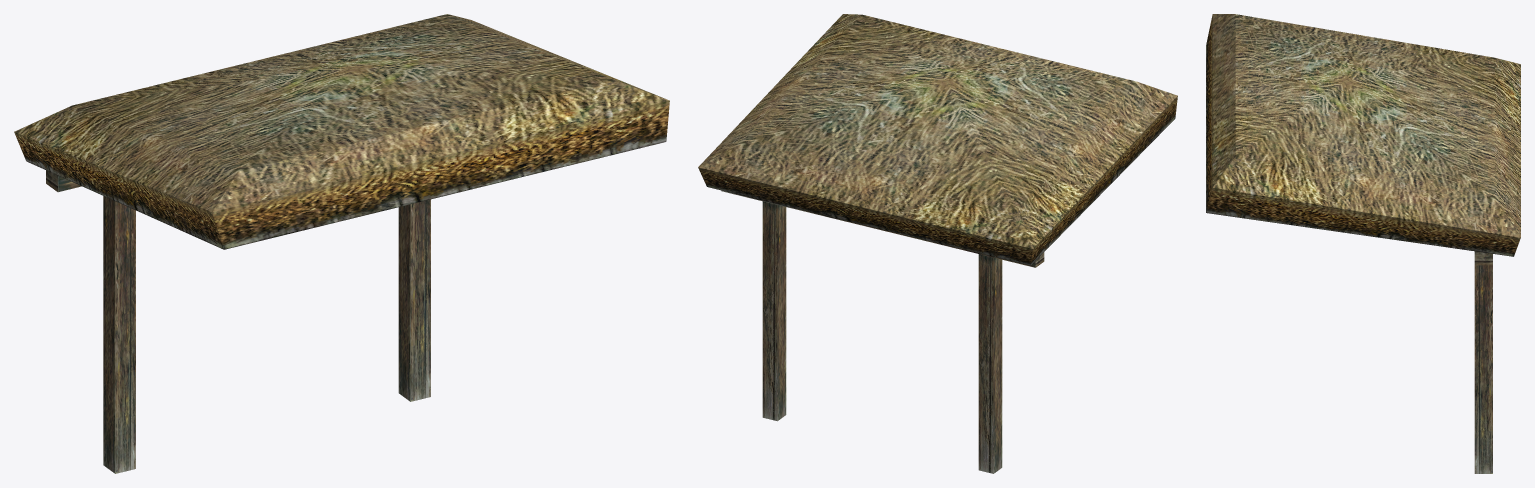
Rendered from mhouse16.glb.
3 renders of one model, left to right at view 1: azimuth 30°, elevation 25°; view 2: azimuth 150°, elevation 25°; view 3: azimuth 270°, elevation 25°, orthographic. The views are drawn at different scales.
Visible parts, largest first — view 1: mhouse16-col; view 2: mhouse16-col; view 3: mhouse16-col.
Part boxes in pixels (<box>): mhouse16-col: <box>14,14,669,473</box>; mhouse16-col: <box>698,14,1177,473</box>; mhouse16-col: <box>1206,14,1520,473</box>.
Bounding box in the file's own units: 3.4 × 3.04 × 2.6.
Materials: 3 (3 with a texture image).
